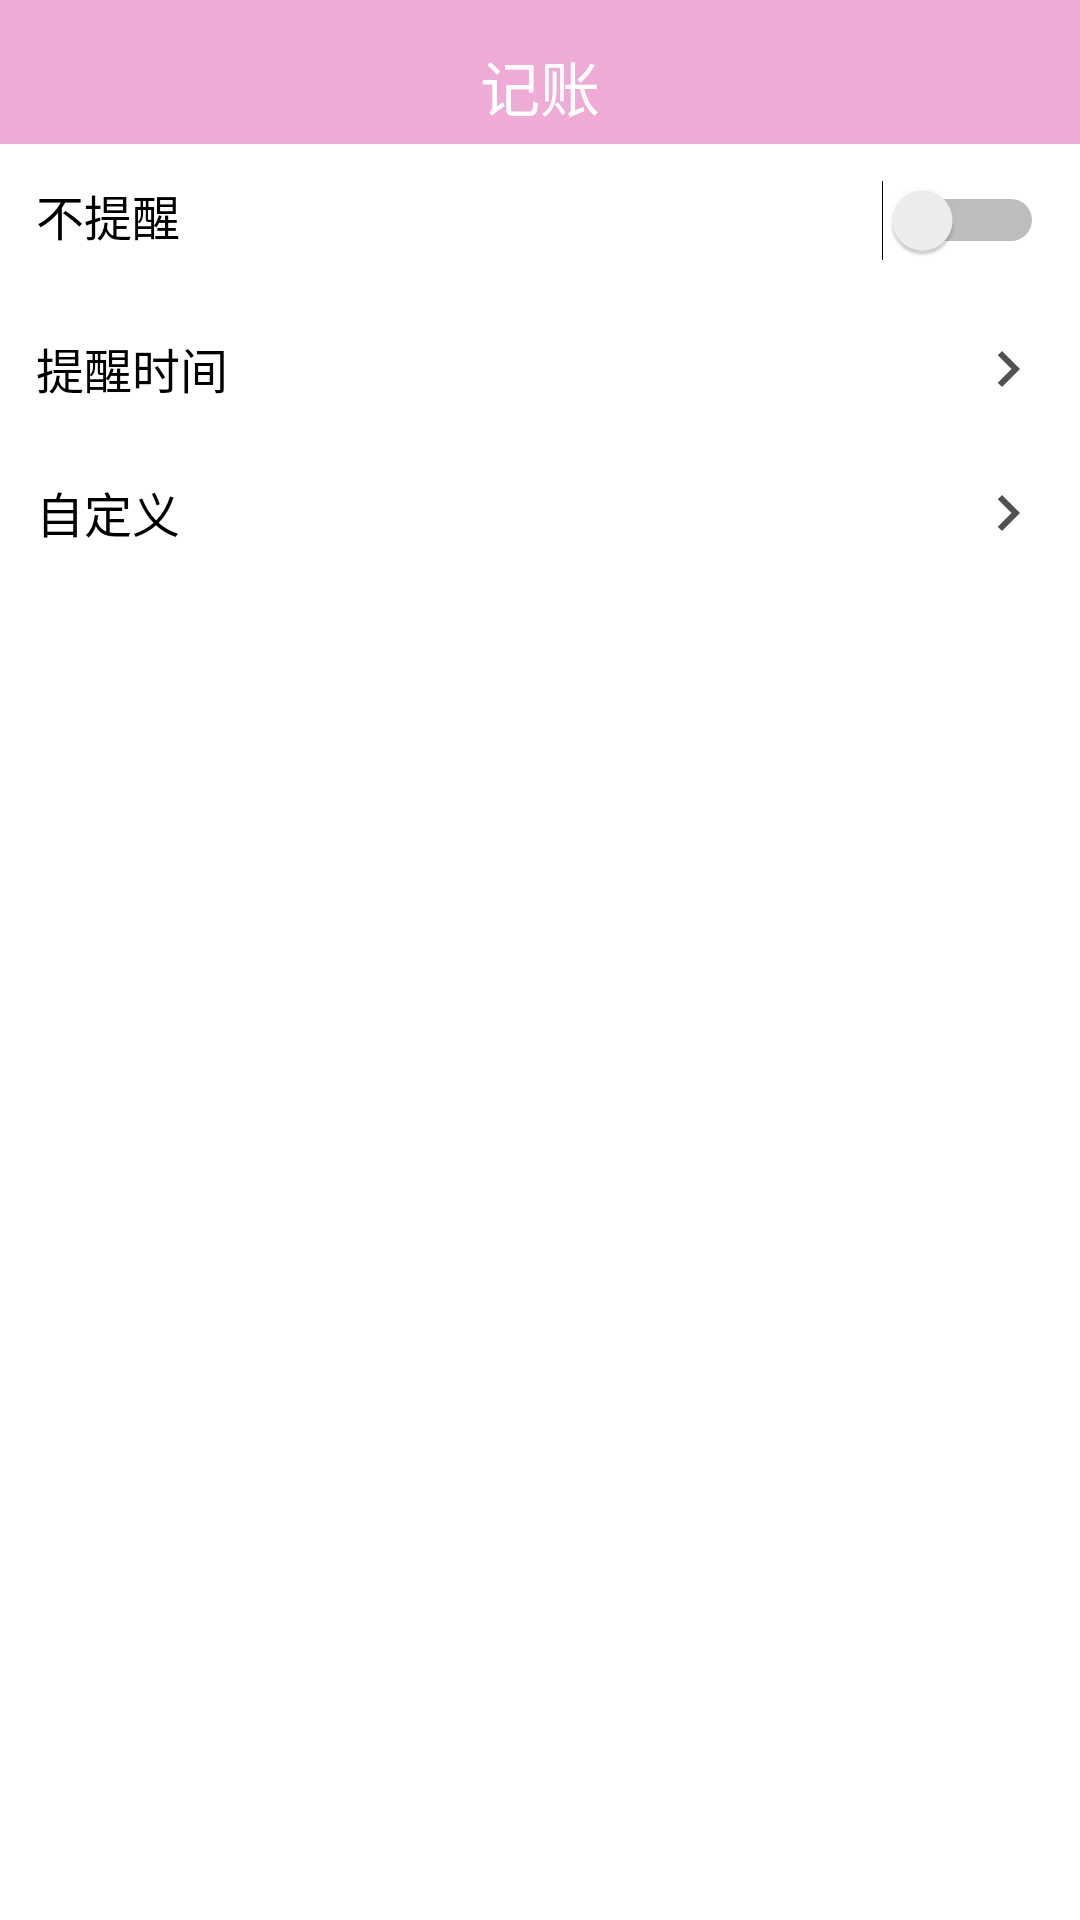

Screen size 1080×1920. Icon name, then its center in pixels as (x,y):
navigate next: (1009,369), (1009,513)
